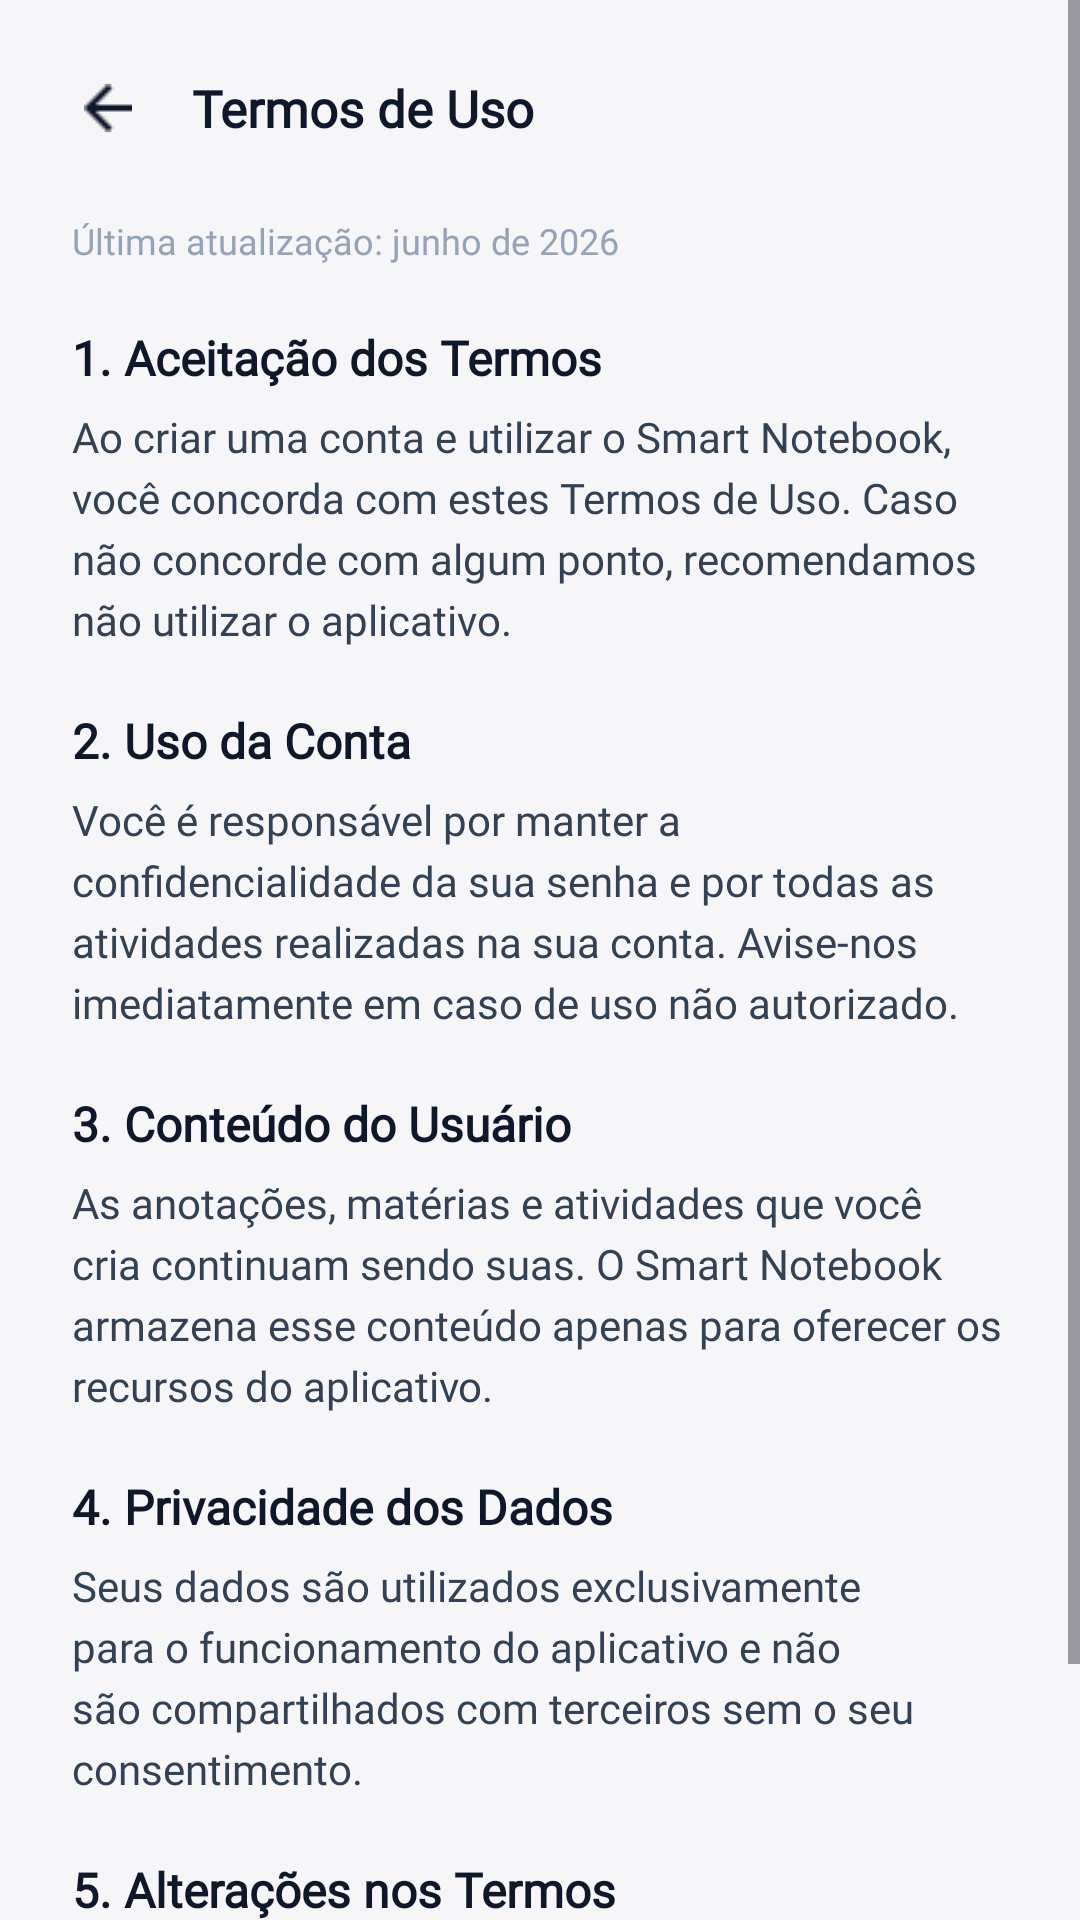

Icon click points for this 1080 x 1920 phone screenshot, format (x,y):
Voltar: (108,108)
